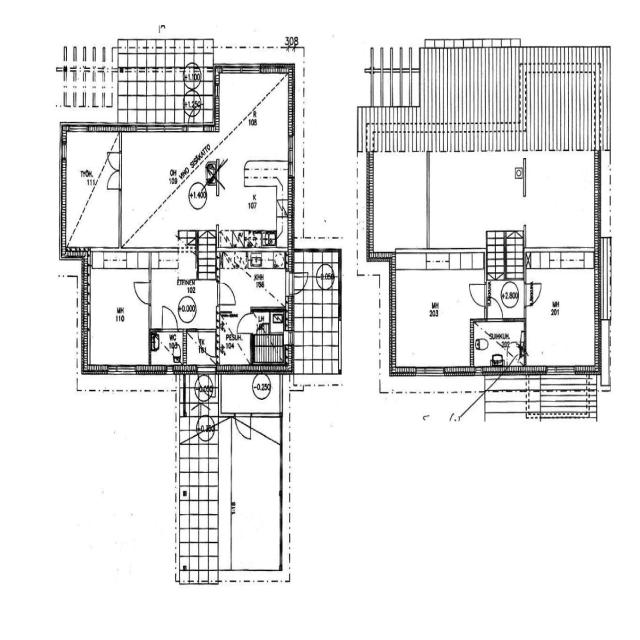door: (106, 151, 122, 192), (468, 279, 488, 309), (132, 276, 152, 306), (216, 279, 237, 307), (524, 278, 544, 306), (160, 303, 179, 331), (234, 411, 252, 440), (487, 293, 504, 320), (236, 310, 254, 335), (290, 271, 308, 294)
window: (544, 362, 577, 380), (414, 363, 445, 378), (107, 362, 138, 377), (287, 132, 296, 178), (241, 62, 262, 73), (187, 123, 204, 133), (58, 142, 66, 162), (164, 365, 177, 376)
zone: (372, 153, 598, 254), (217, 69, 291, 248), (120, 128, 217, 246), (392, 252, 484, 371), (526, 248, 598, 364), (84, 254, 150, 372), (62, 129, 120, 249), (218, 248, 288, 310), (151, 272, 216, 327), (221, 370, 281, 417), (471, 320, 526, 366), (217, 313, 252, 367), (253, 310, 284, 365), (149, 328, 186, 367), (184, 328, 217, 367)
